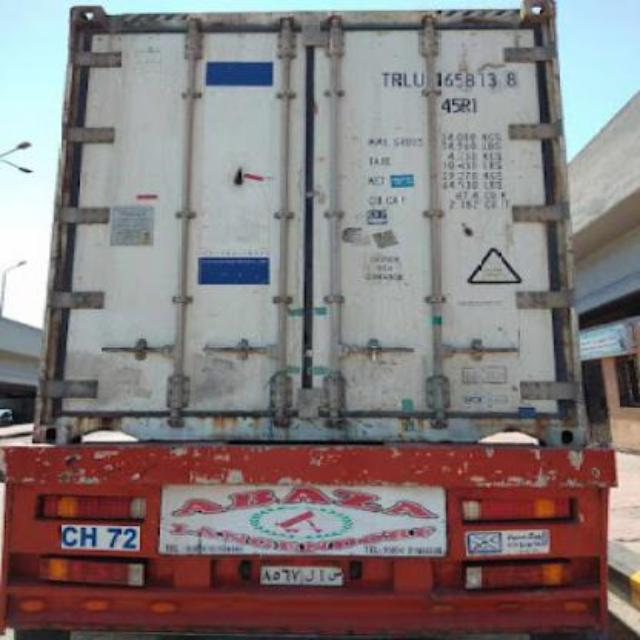1: (432, 67, 444, 91), (476, 69, 486, 87)
3: (482, 61, 498, 91)
5: (452, 61, 464, 91)
6: (444, 66, 454, 92)
8: (504, 62, 518, 92), (466, 60, 476, 92)
L: (400, 66, 412, 92)
R: (388, 66, 402, 92)
T: (376, 64, 389, 90)
U: (412, 66, 424, 90)
